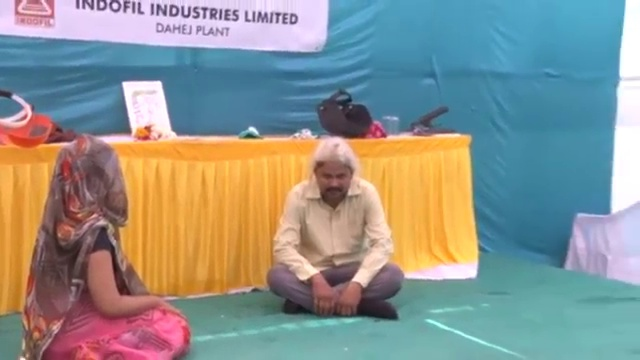helmet_off: (49, 136, 129, 226), (310, 138, 356, 202)
person: (18, 134, 194, 360), (262, 135, 405, 321)
